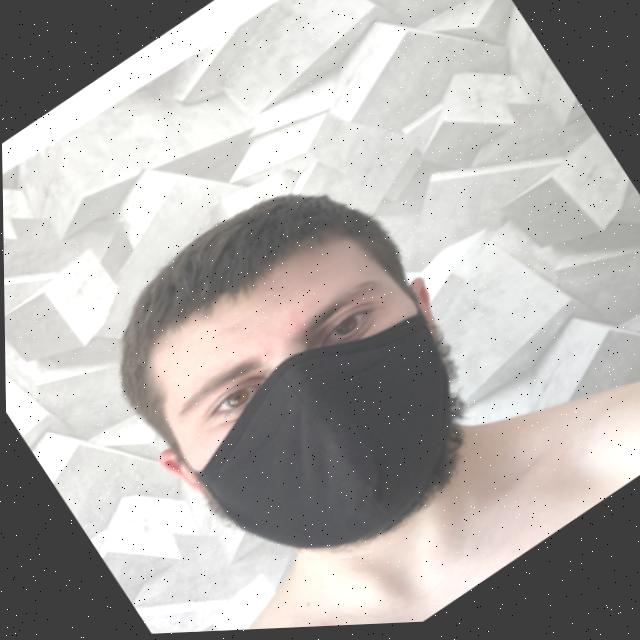Mask: (134, 247, 533, 626)
